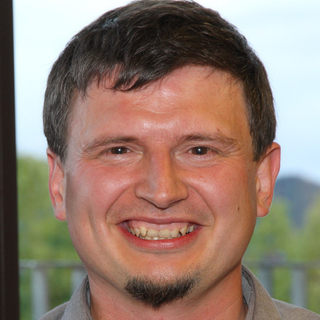eye: (177, 140, 223, 164), (96, 140, 142, 164)
